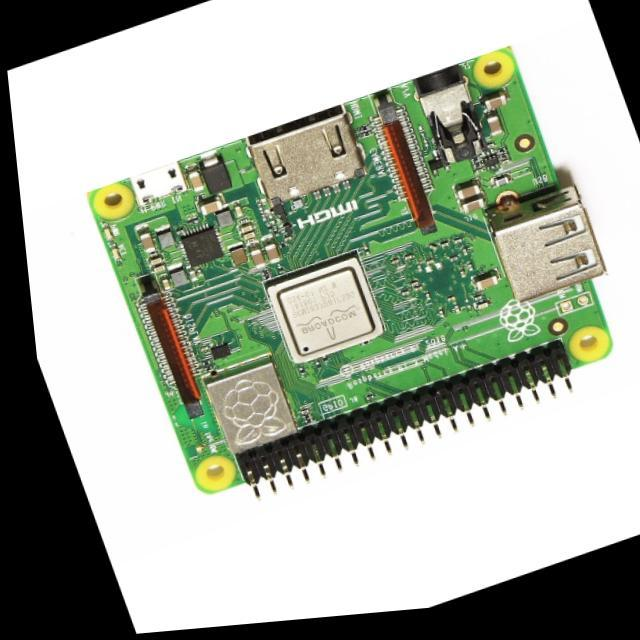Raspberry-Pi-3-A-: (89, 47, 611, 494)
